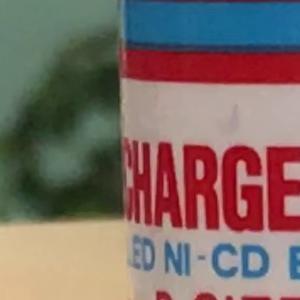NI-CD: (141, 234, 279, 281)
